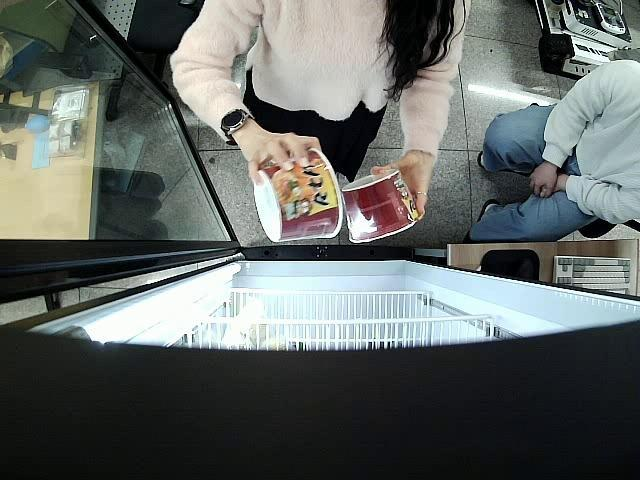05_nuguri_L: (254, 148, 344, 240), (342, 170, 426, 242)
